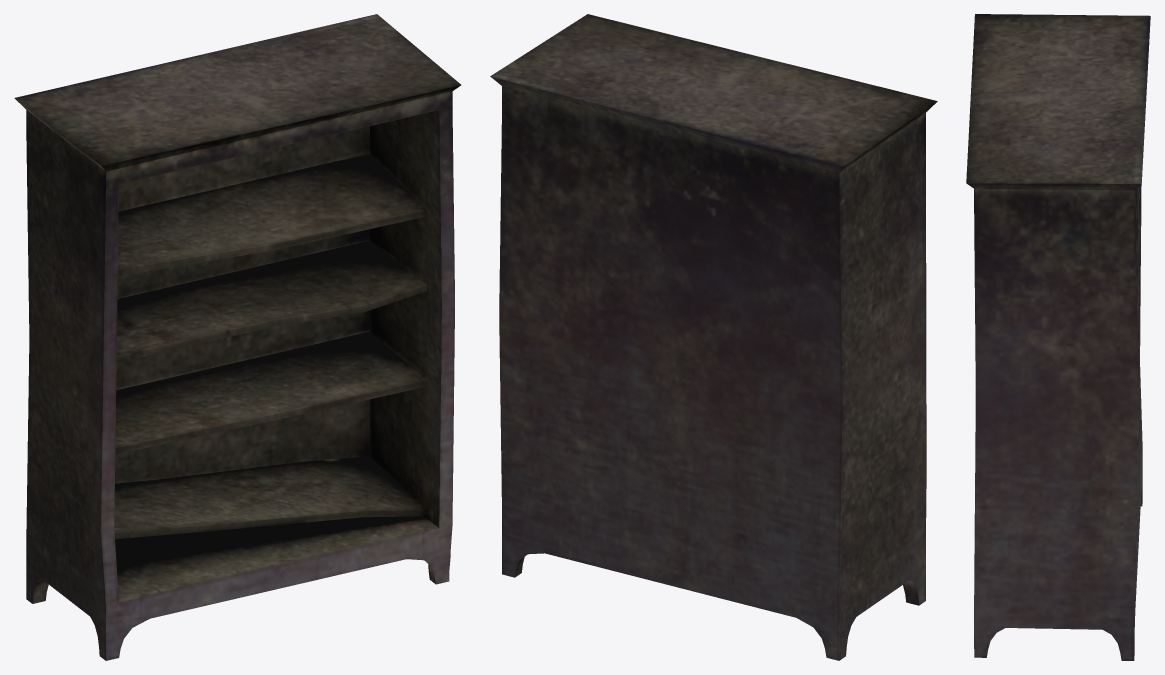
File: OpenWardrobe.FBX
3 views of the same model, side by side, from view 1: azimuth 30°, elevation 25°; view 2: azimuth 150°, elevation 25°; view 3: azimuth 270°, elevation 25° (orthographic). The views are drawn at different scales.
Visible parts, largest first — view 1: OpenWardrobe; view 2: OpenWardrobe; view 3: OpenWardrobe.
Part boxes in pixels (<box>): OpenWardrobe: <box>14,14,461,660</box>; OpenWardrobe: <box>490,14,937,660</box>; OpenWardrobe: <box>966,14,1150,660</box>.
Size of the model in its own units: 177 by 234 by 81.21.
